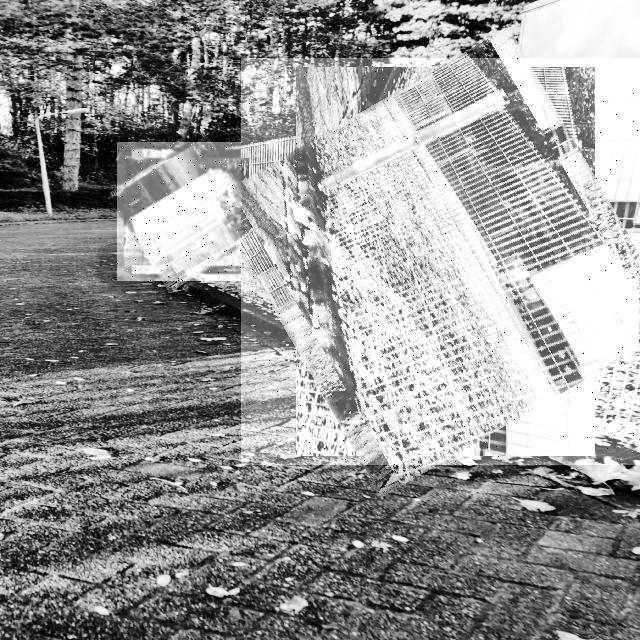fences: (241, 58, 640, 465), (117, 142, 256, 281)
